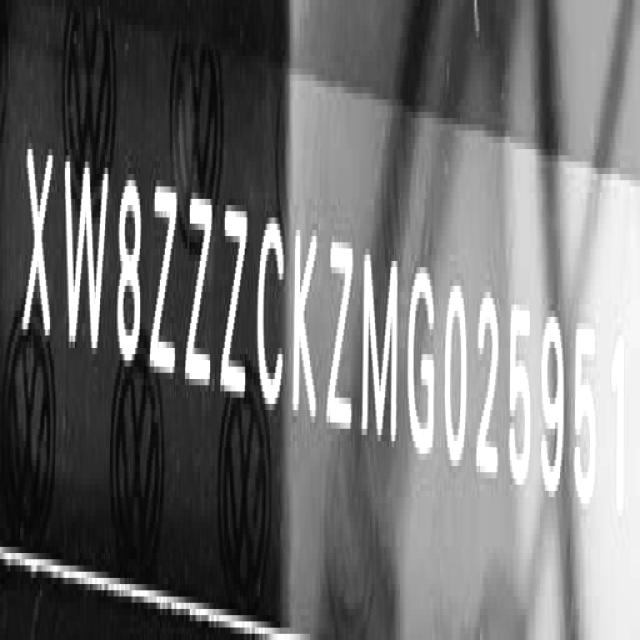0: (442, 276, 468, 467)
1: (610, 334, 626, 516)
2: (474, 290, 502, 495)
5: (506, 290, 534, 499), (569, 315, 599, 509)
8: (115, 170, 143, 378)
9: (538, 308, 568, 502)
C: (257, 207, 287, 417)
G: (404, 253, 438, 465)
K: (290, 210, 320, 438)
M: (360, 242, 400, 453)
W: (61, 145, 110, 368)
X: (24, 129, 55, 359)
Z: (324, 216, 358, 444), (218, 193, 251, 414), (184, 194, 217, 400), (150, 163, 180, 389)
